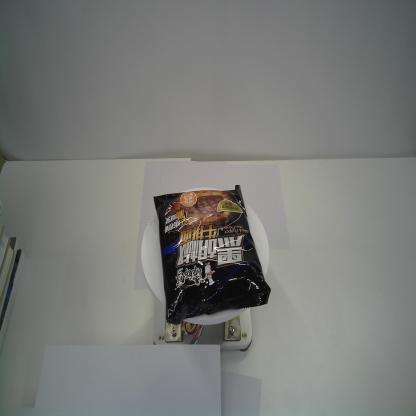Instant Noodles: (152, 184, 272, 325)
